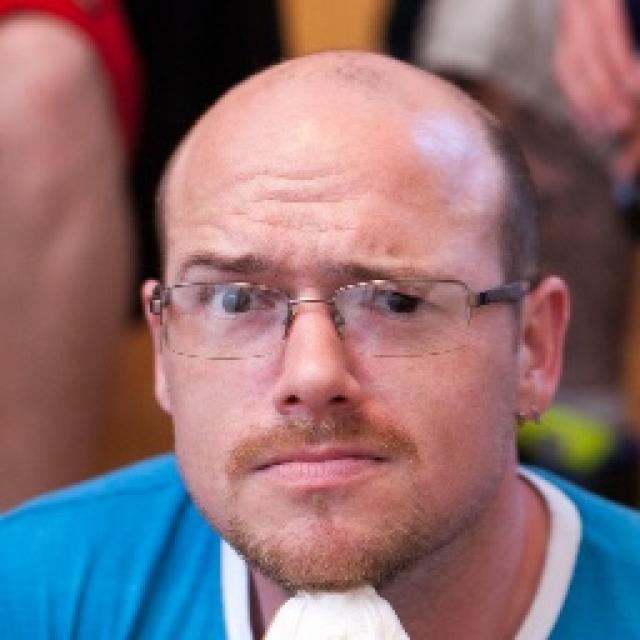earlobe: (510, 373, 550, 422), (151, 372, 175, 416)
eye: (368, 291, 432, 322), (206, 290, 267, 318)
nose: (268, 400, 360, 437)
wholeear: (510, 276, 571, 423), (139, 279, 174, 416)
